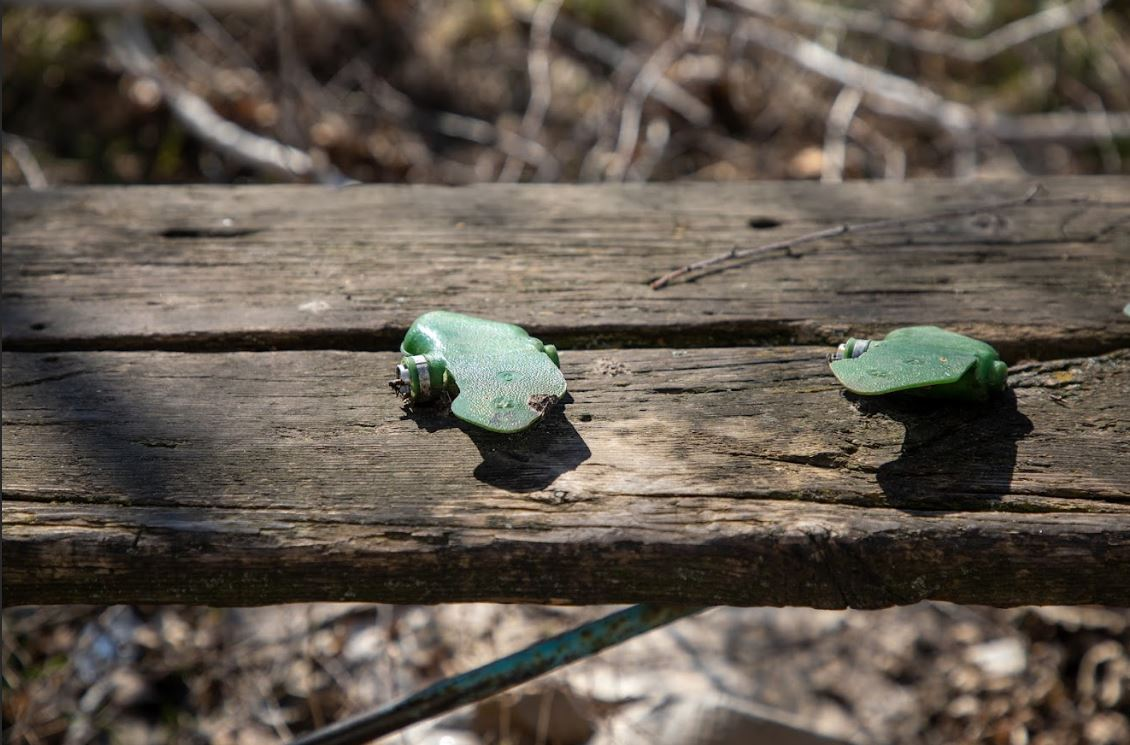butterfly: (378, 297, 585, 462), (817, 315, 1018, 440)
